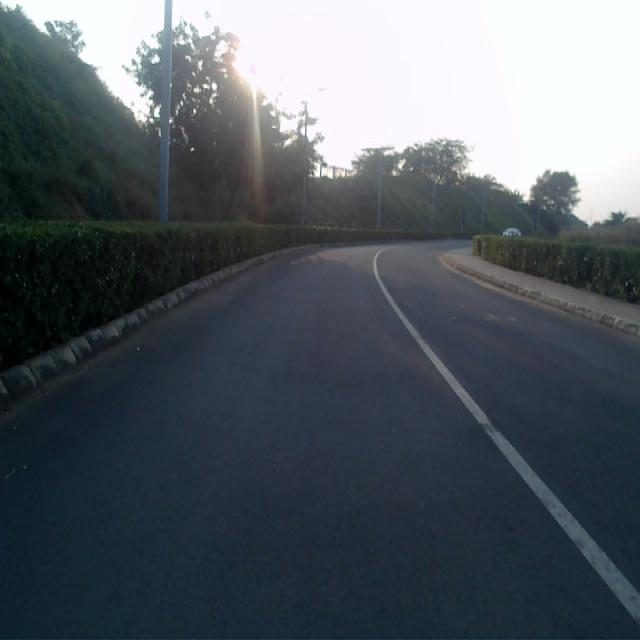lane: (0, 244, 640, 640)
